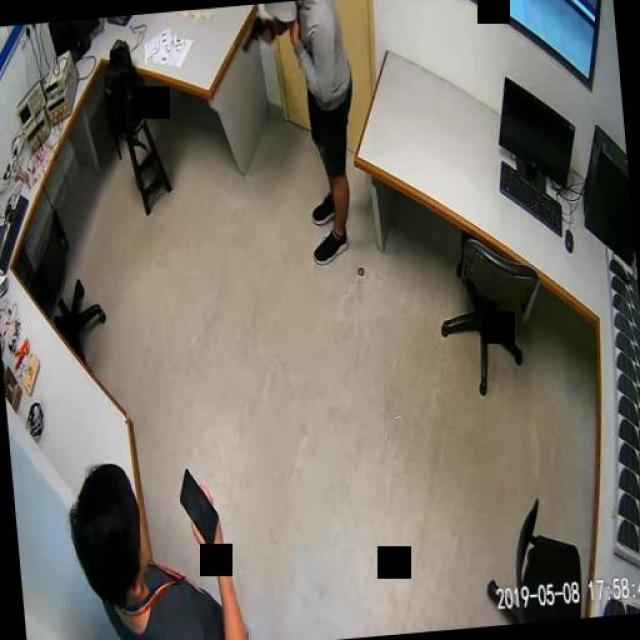gun: (238, 14, 274, 50)
